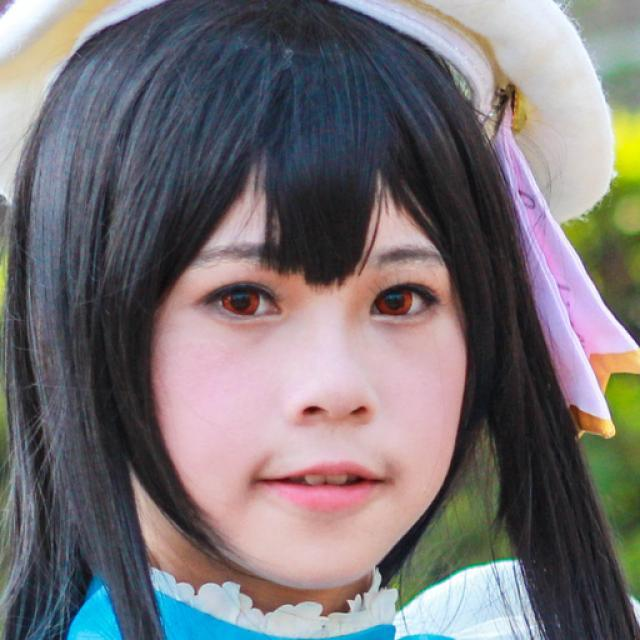neutral: (147, 129, 469, 592)
